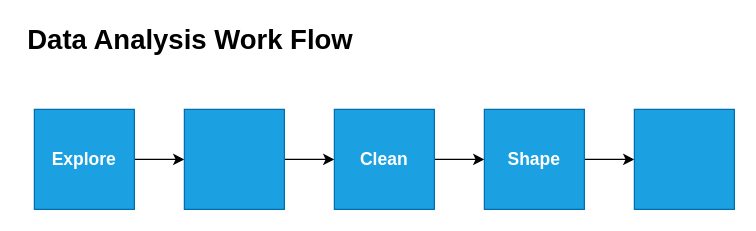
The diagram is 756 pixels wide and 231 high, and some of its shapes have lost their labels. Each missing label, with the centre of its shape:
"Analysis" belongs at [683,158].
"Profile" belongs at [233,158].
